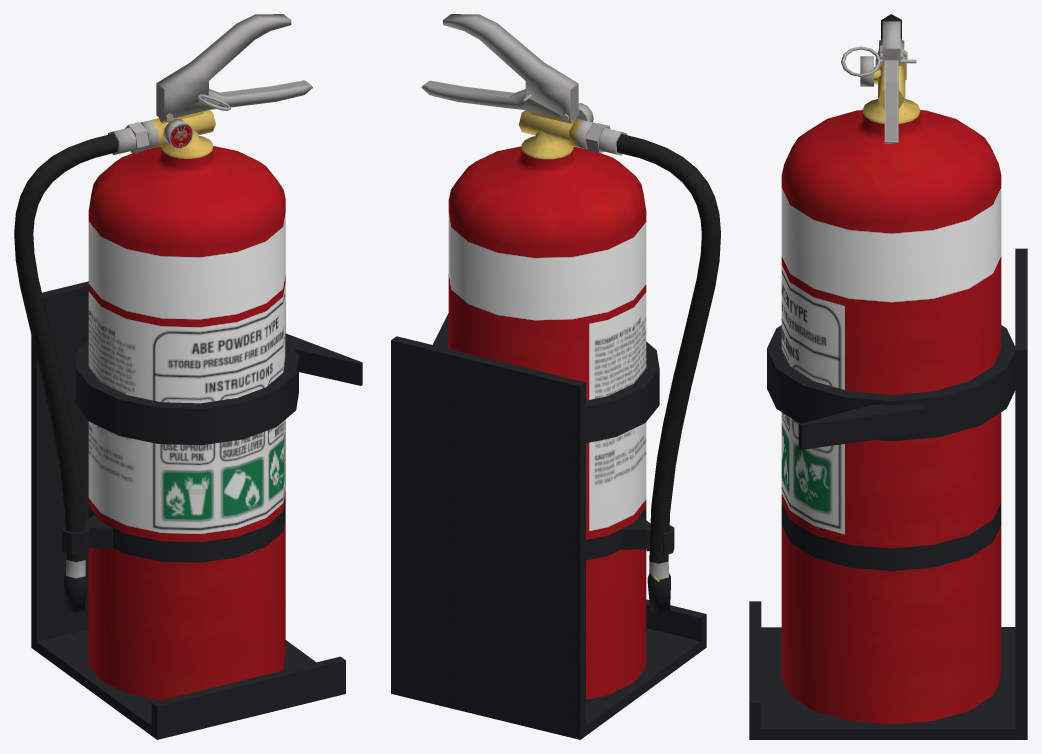
File: fire-extinguisher-cbj_LOD01.gltf
3 renders of one model, left to right at view 1: azimuth 30°, elevation 25°; view 2: azimuth 150°, elevation 25°; view 3: azimuth 270°, elevation 25°, orthographic. The views are drawn at different scales.
Visible parts, largest first — view 1: Fire extinguisher.002; view 2: Fire extinguisher.002; view 3: Fire extinguisher.002.
Part boxes in pixels (x1,y1,x2,y2): Fire extinguisher.002: [14, 14, 362, 739]; Fire extinguisher.002: [391, 14, 720, 739]; Fire extinguisher.002: [749, 14, 1027, 739].
Bounding box in the file's own units: 0.3255 × 0.6414 × 0.2306.
